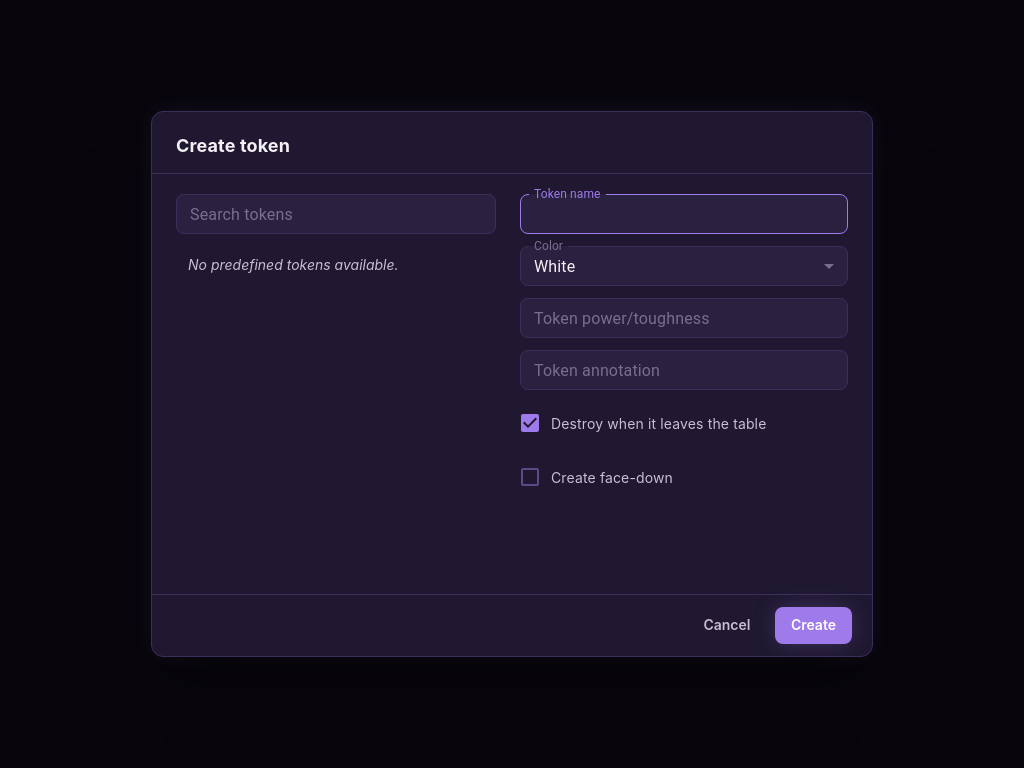
Test: CreateTokenDialog › requires a non-empty name
Click the button "Create" at (813, 625), box [775,607,852,644]
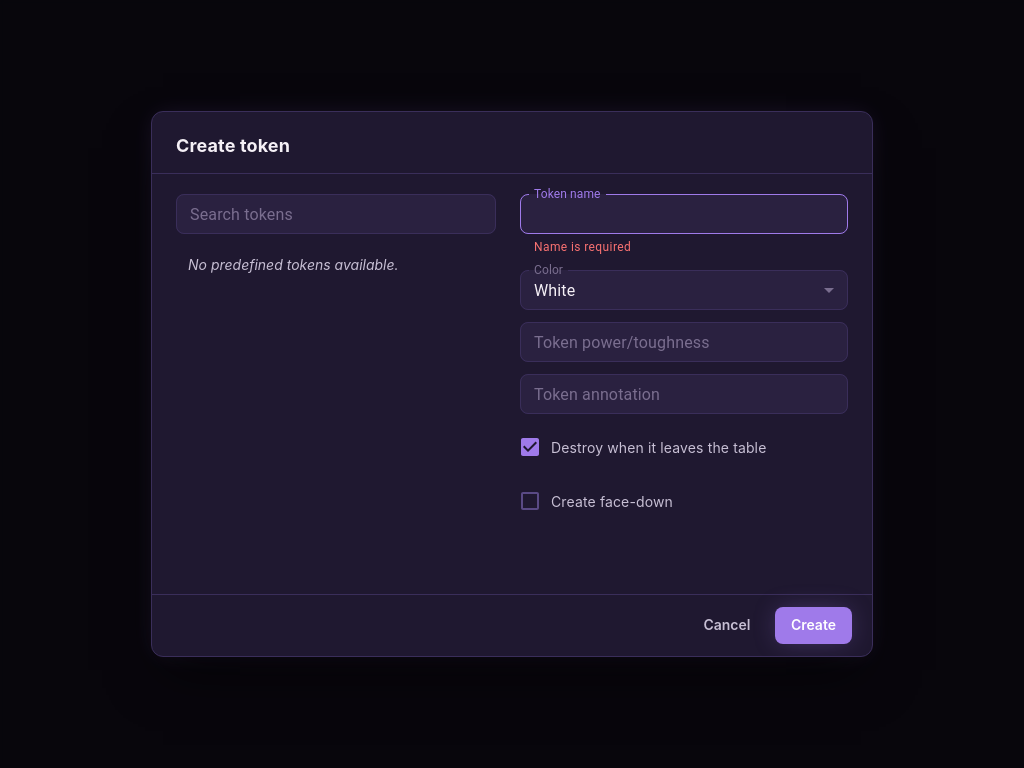
Result: the text "Name is required" is shown at [534,240,631,254]
